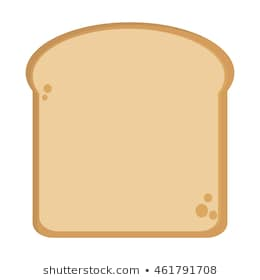slice of bread: (34, 55, 220, 233)
